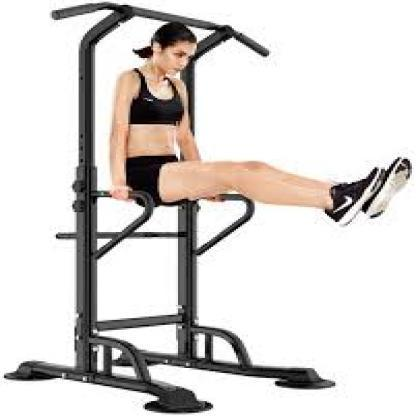chinning dipping: (53, 1, 334, 413)
